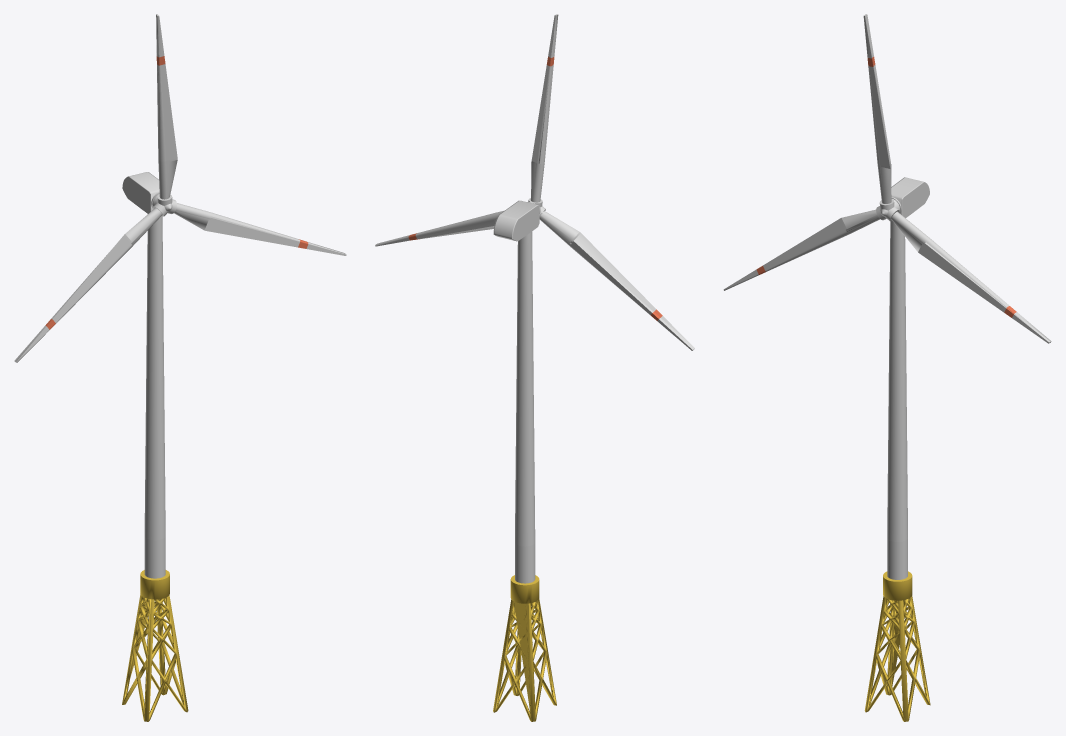
Rendered from windmill_sea.fbx.
3 views of the same model, side by side, from view 1: azimuth 30°, elevation 25°; view 2: azimuth 150°, elevation 25°; view 3: azimuth 330°, elevation 25° (orthographic). The views are drawn at different scales.
Visible parts, largest first — view 1: windturbineresized:wmil_SEA2:Sea_wm_base, windturbineresized:wmil_SEA2:Sea_wm_Blade; view 2: windturbineresized:wmil_SEA2:Sea_wm_base, windturbineresized:wmil_SEA2:Sea_wm_Blade; view 3: windturbineresized:wmil_SEA2:Sea_wm_base, windturbineresized:wmil_SEA2:Sea_wm_Blade.
Part boxes in pixels (bbox=[...]): windturbineresized:wmil_SEA2:Sea_wm_base: bbox=[122, 172, 188, 721]; windturbineresized:wmil_SEA2:Sea_wm_Blade: bbox=[14, 14, 346, 362]; windturbineresized:wmil_SEA2:Sea_wm_base: bbox=[493, 200, 556, 721]; windturbineresized:wmil_SEA2:Sea_wm_Blade: bbox=[375, 14, 694, 350]; windturbineresized:wmil_SEA2:Sea_wm_base: bbox=[864, 177, 930, 721]; windturbineresized:wmil_SEA2:Sea_wm_Blade: bbox=[723, 14, 1051, 343].
Size of the model in its own units: 4505 by 9260 by 997.
